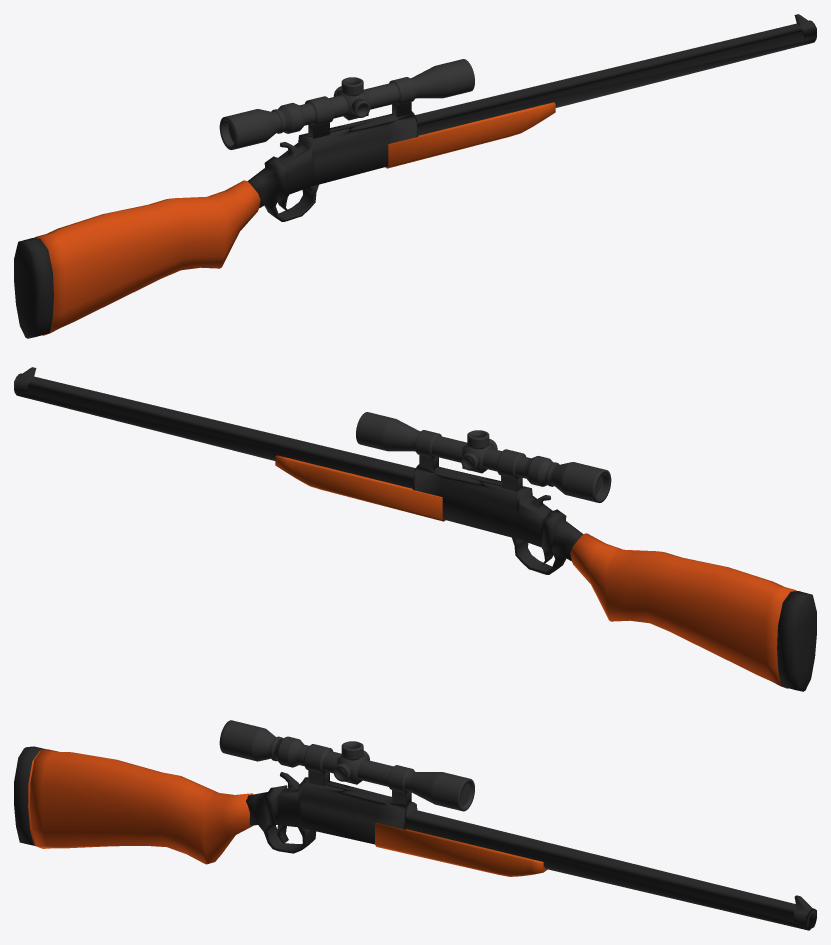
The model's file is rifle2.fbx.
3 views of the same model, one above another, from view 1: azimuth 30°, elevation 25°; view 2: azimuth 150°, elevation 25°; view 3: azimuth 330°, elevation 25° (orthographic).
Parts seen in each view (by area): view 1: Cube, Cube.001, Cylinder, Cube.002; view 2: Cube, Cube.001, Cylinder, Cube.002; view 3: Cube, Cube.001, Cylinder, Cube.002.
Boxes of the visible parts, x1,y1,x2,y2 form: Cube: (14, 180, 260, 338); Cube.001: (248, 14, 816, 221); Cylinder: (219, 59, 474, 149); Cube.002: (385, 102, 555, 168); Cube: (570, 533, 816, 691); Cube.001: (14, 367, 582, 574); Cylinder: (356, 412, 611, 502); Cube.002: (275, 455, 445, 521); Cube: (14, 746, 253, 864); Cube.001: (246, 772, 816, 930); Cylinder: (219, 720, 474, 811); Cube.002: (375, 822, 547, 876).
Bounding box in the file's own units: 1053 × 229 × 59.75.
